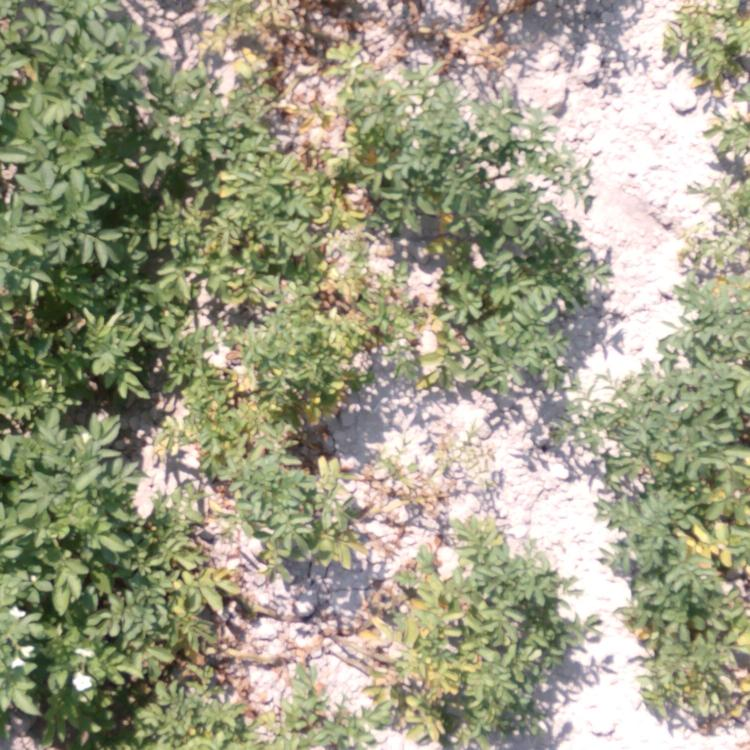healthy: (1, 156, 159, 389), (1, 571, 163, 746), (1, 4, 181, 156), (1, 390, 153, 570), (478, 204, 593, 397), (398, 104, 580, 207)
stressed: (366, 528, 568, 730), (185, 1, 393, 197), (615, 466, 750, 723), (157, 403, 356, 567), (164, 197, 309, 402), (316, 208, 471, 399), (658, 303, 750, 468), (155, 579, 241, 750), (686, 112, 750, 300), (242, 669, 354, 742), (654, 1, 746, 81), (549, 399, 664, 457)
